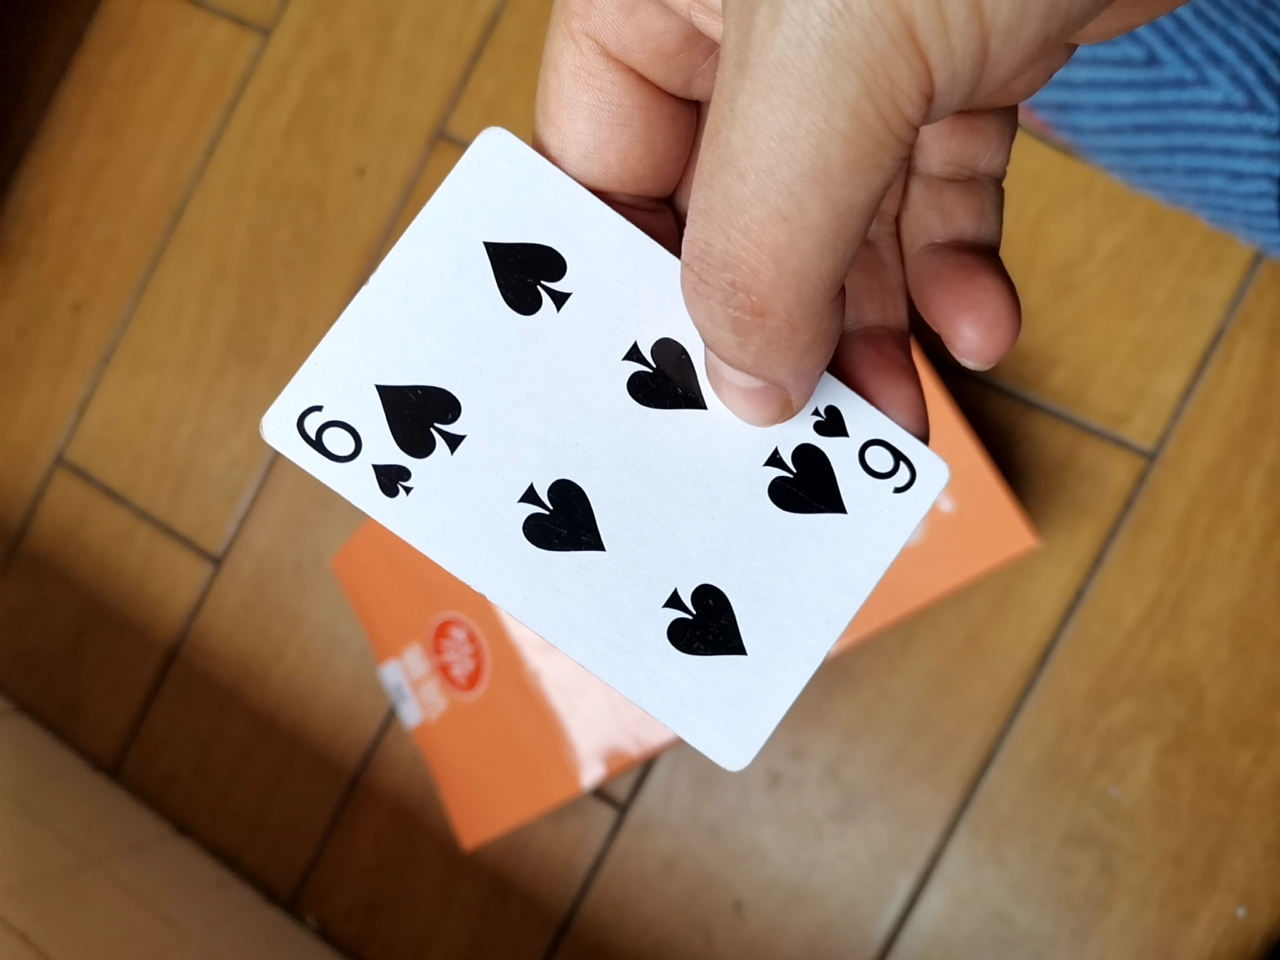ht 6: (265, 130, 955, 807)
